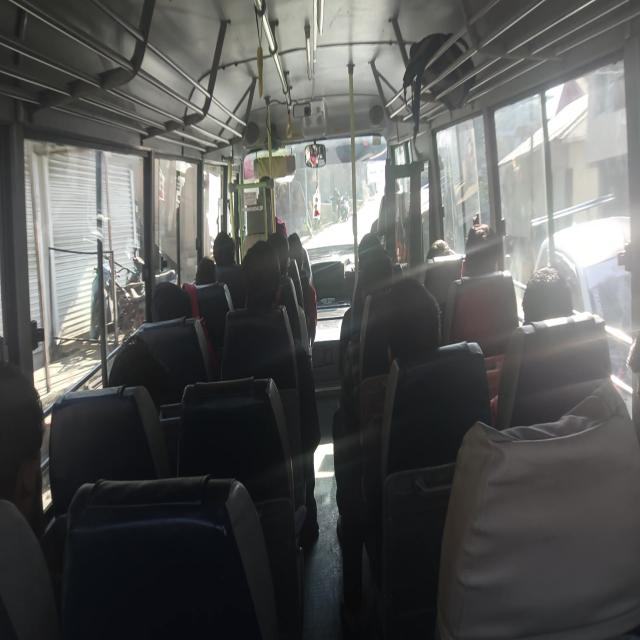person: (435, 377, 639, 638), (334, 277, 442, 634), (220, 239, 320, 542), (0, 360, 61, 637), (443, 222, 518, 353), (0, 360, 46, 538), (521, 265, 573, 325), (212, 230, 245, 310), (212, 231, 236, 267), (194, 256, 218, 286), (425, 238, 455, 260)
